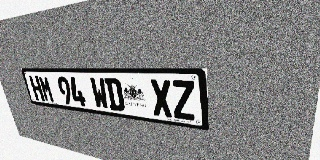4: (68, 77, 87, 107)
9: (56, 76, 74, 105)
D: (104, 78, 125, 112)
H: (29, 76, 45, 101)
M: (38, 76, 55, 103)
W: (89, 77, 110, 110)
X: (149, 79, 173, 118)
Z: (171, 80, 196, 121)
